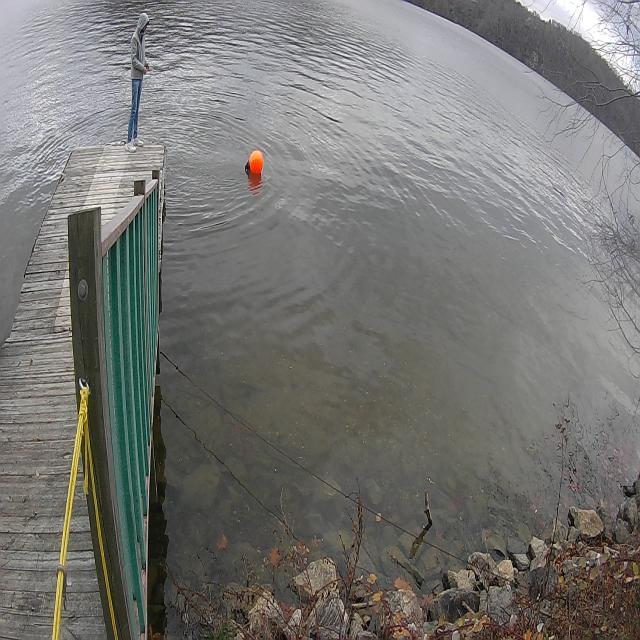Buoy: (242, 145, 267, 187)
